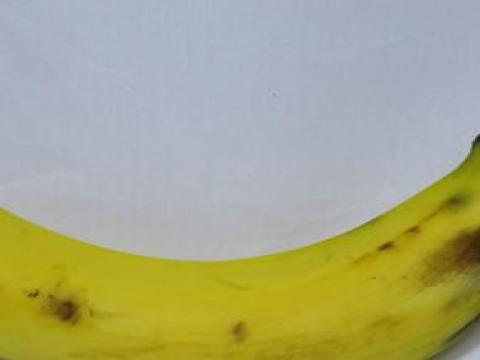freshripe: (0, 123, 479, 359)
